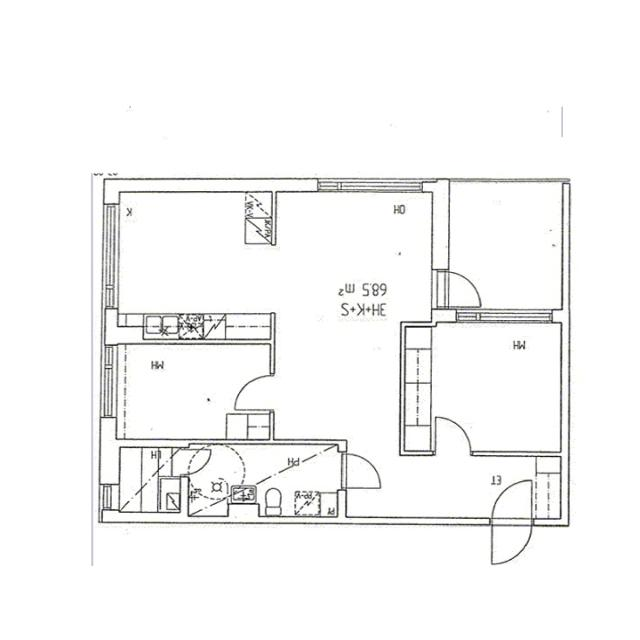door: (486, 475, 537, 570), (435, 265, 487, 312), (228, 369, 279, 413), (431, 413, 478, 456), (338, 450, 386, 492), (178, 445, 214, 477)
window: (92, 198, 126, 312), (449, 304, 556, 330), (316, 173, 425, 198), (92, 341, 121, 424)
zone: (108, 188, 270, 344), (408, 318, 568, 455), (105, 341, 265, 445), (443, 178, 563, 316), (179, 442, 344, 518), (100, 448, 184, 518)
